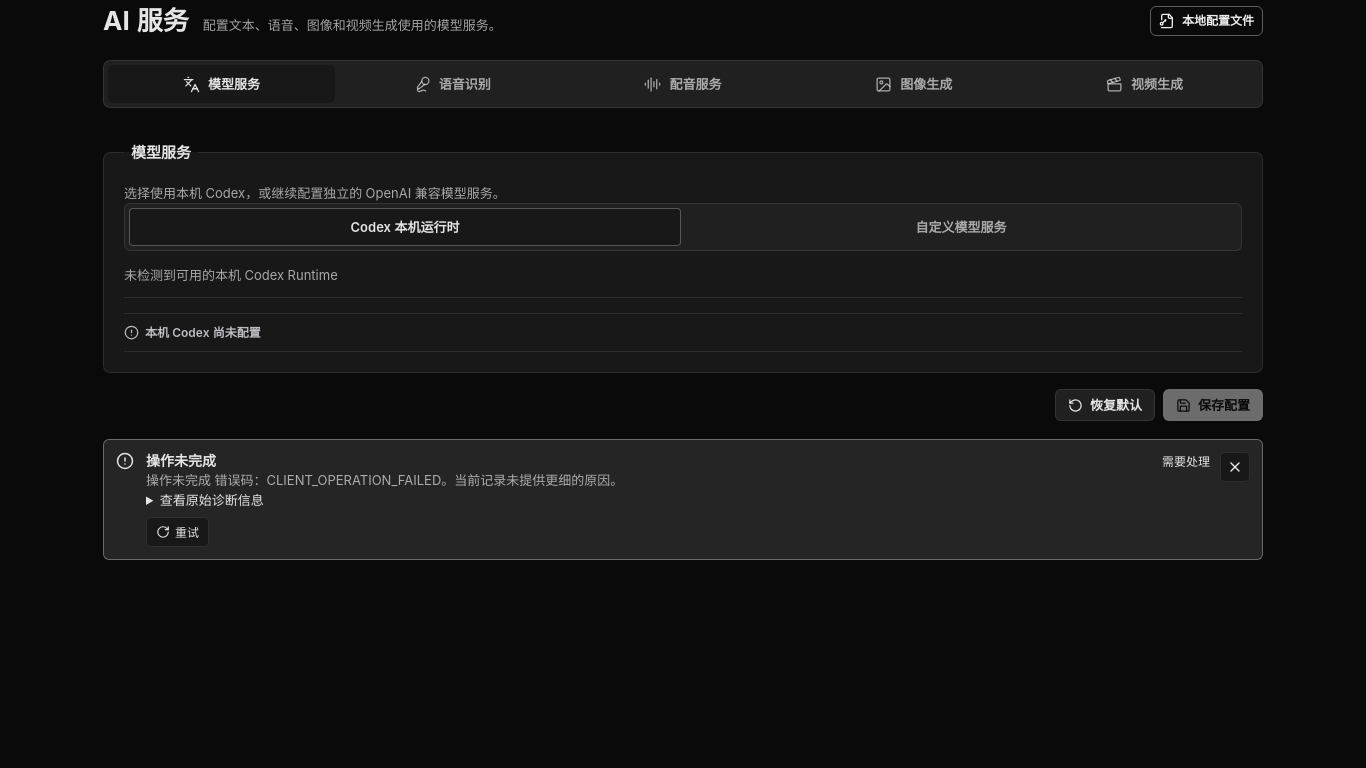
Test: CreatorServicesSettingsView › keeps custom model configuration available when local Codex is unavailable
Expected: the text "未检测到可用的本机 Codex Runtime" is shown, [124,266,1242,298]
Expected: the button "保存配置" is disabled, [1163,389,1263,421]
Step 1. Click the button "自定义模型服务" → (961, 227), box [685,208,1237,246]
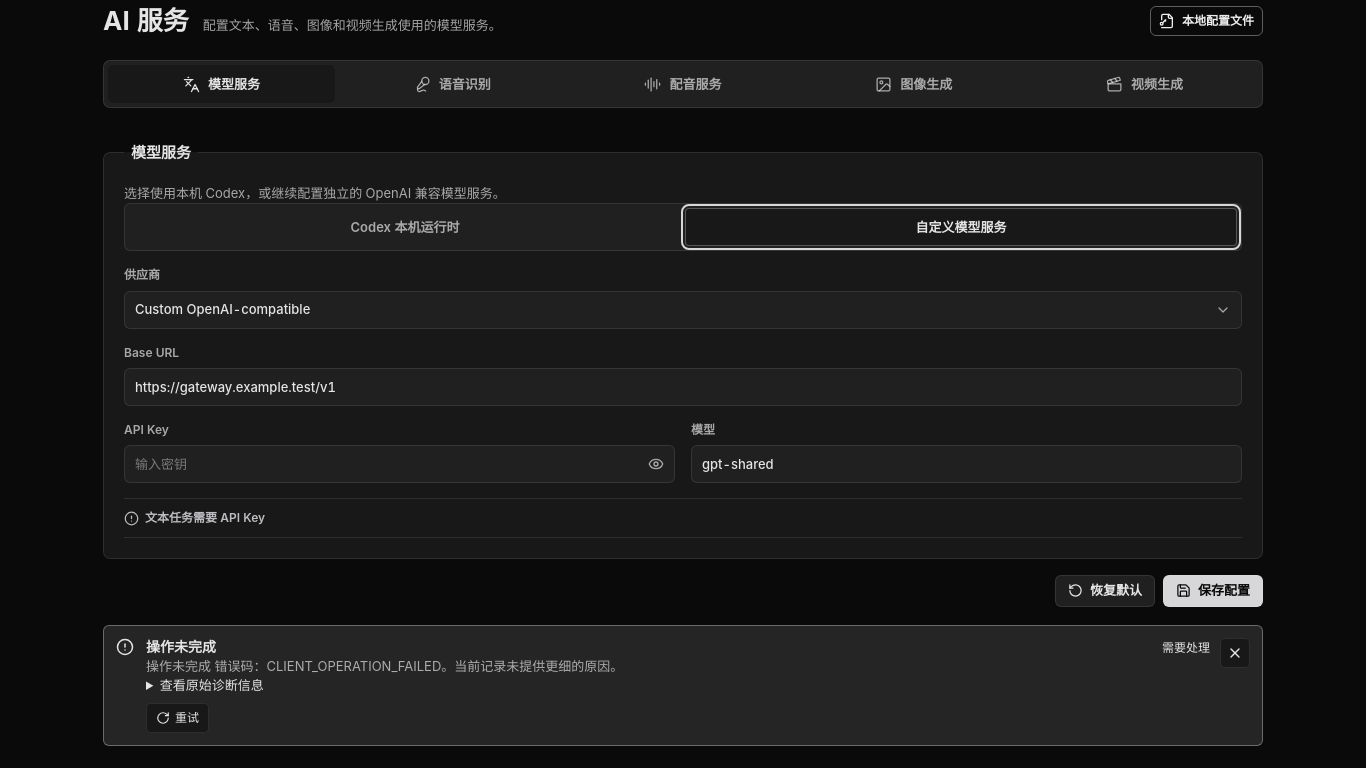
Expected: the field labelled "Base URL" is shown, [124,368,1242,406]
Expected: the password field labelled "API Key" is shown, [124,445,675,483]
Expected: the button "保存配置" is enabled, [1163,575,1263,607]
